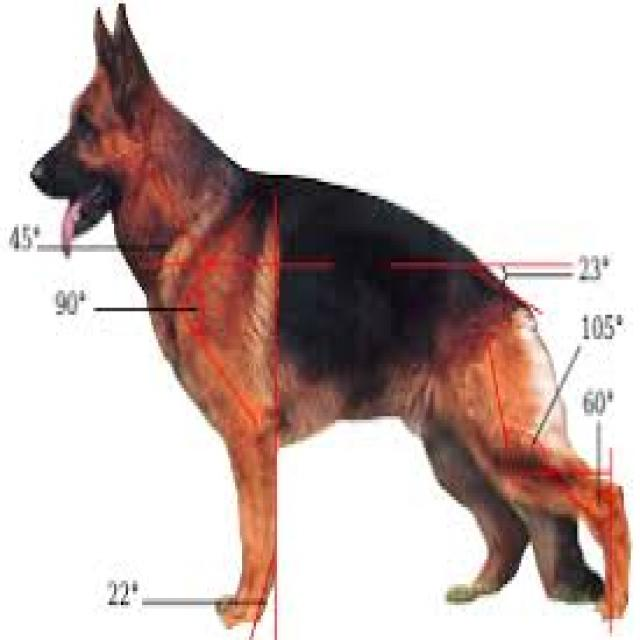Dog: (28, 0, 631, 640)
